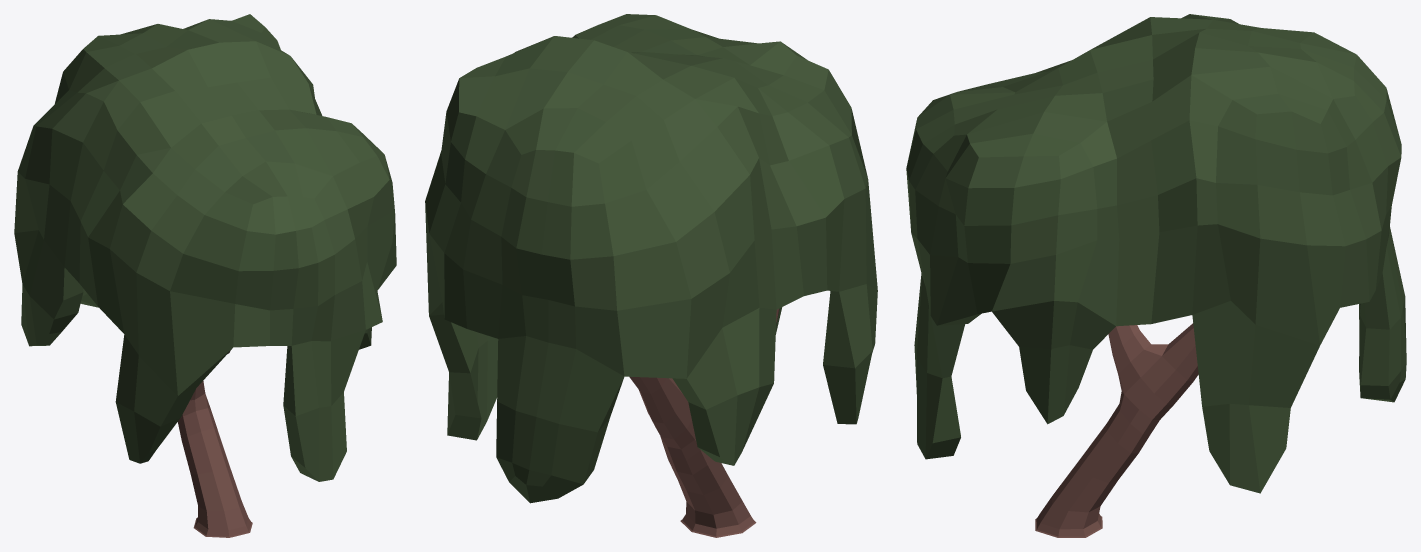
The model's file is willow_4.glb.
The picture shows the model from 3 angles, left to right: view 1: azimuth 30°, elevation 25°; view 2: azimuth 150°, elevation 25°; view 3: azimuth 270°, elevation 25°; orthographic projection. The views are drawn at different scales.
Parts seen in each view (by area): view 1: Willow_4; view 2: Willow_4; view 3: Willow_4.
Part boxes in pixels (x1,y1,x2,y2): Willow_4: [14, 14, 396, 537]; Willow_4: [425, 14, 877, 537]; Willow_4: [906, 14, 1406, 537].
Size of the model in its own units: 5.25 by 8.13 by 7.31.
